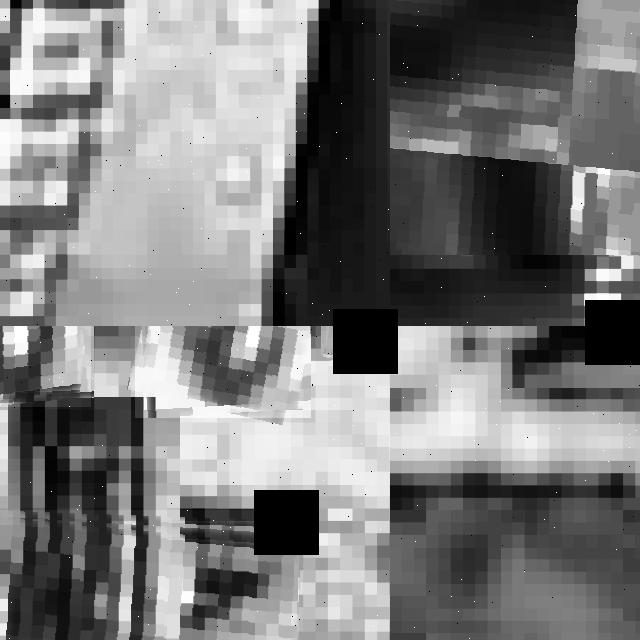arms: (390, 0, 640, 255), (0, 510, 299, 640), (135, 326, 310, 417), (0, 326, 90, 407), (326, 326, 390, 366)
